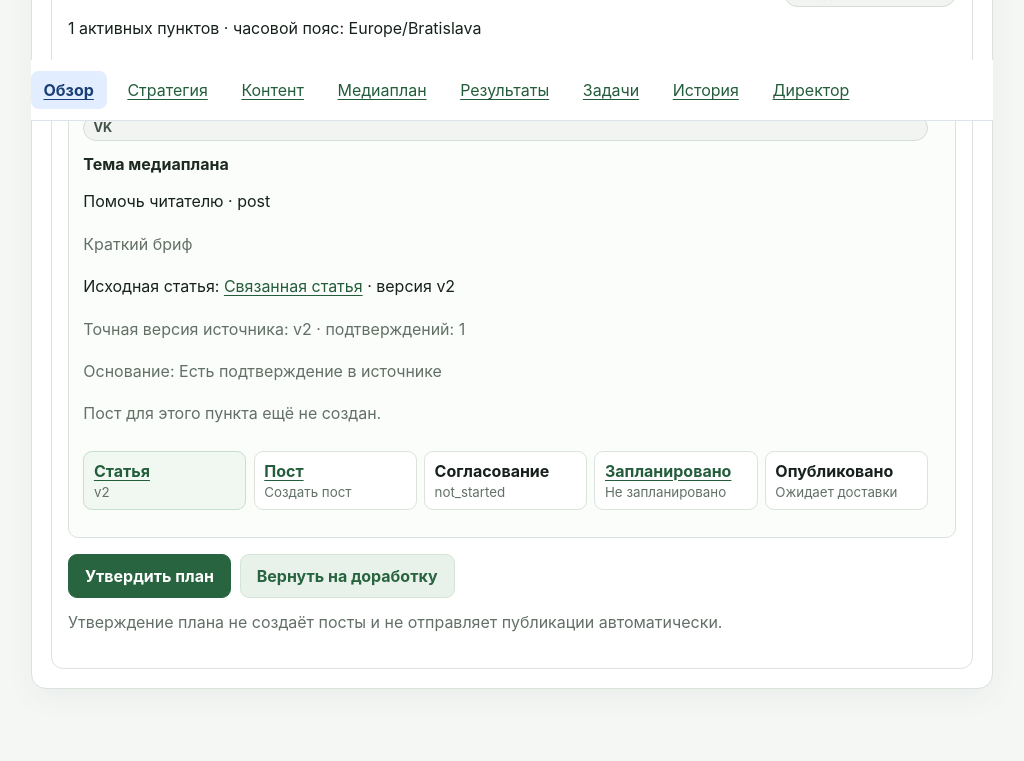
Test: Campaigns UI › refreshes post permissions immediately after plan approval
(page scrolled)
Click the button "Утвердить план". click: (149, 576)
box: [68, 554, 231, 598]
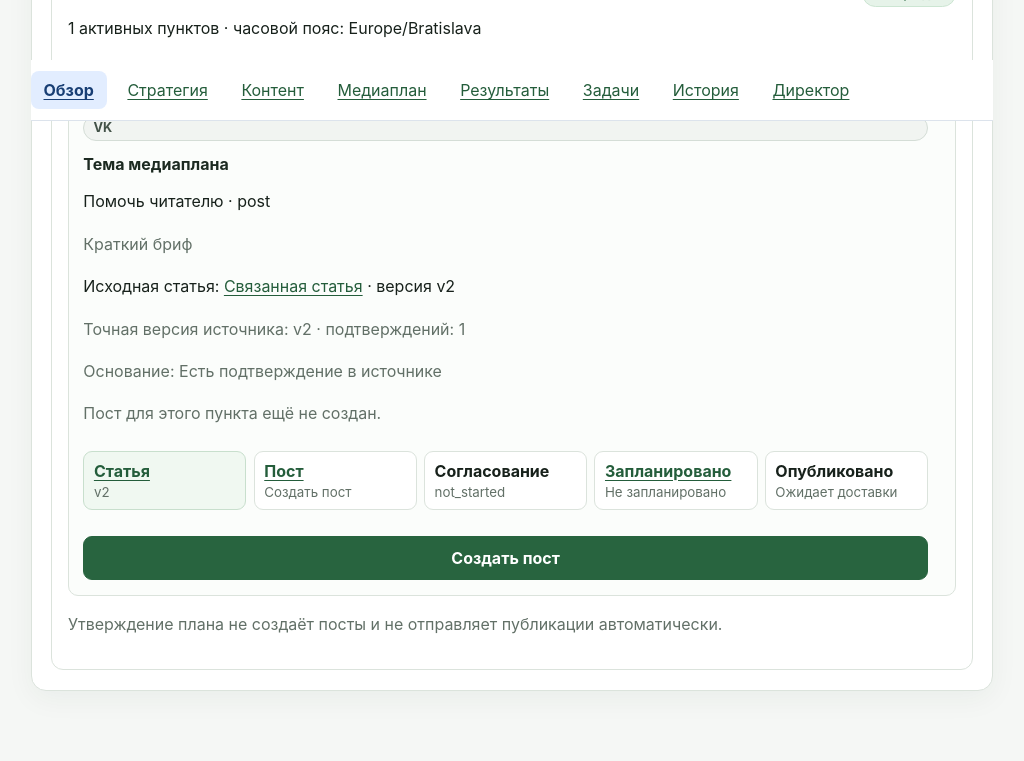
Expected: the button "Создать пост" is shown, [83, 536, 928, 580]
